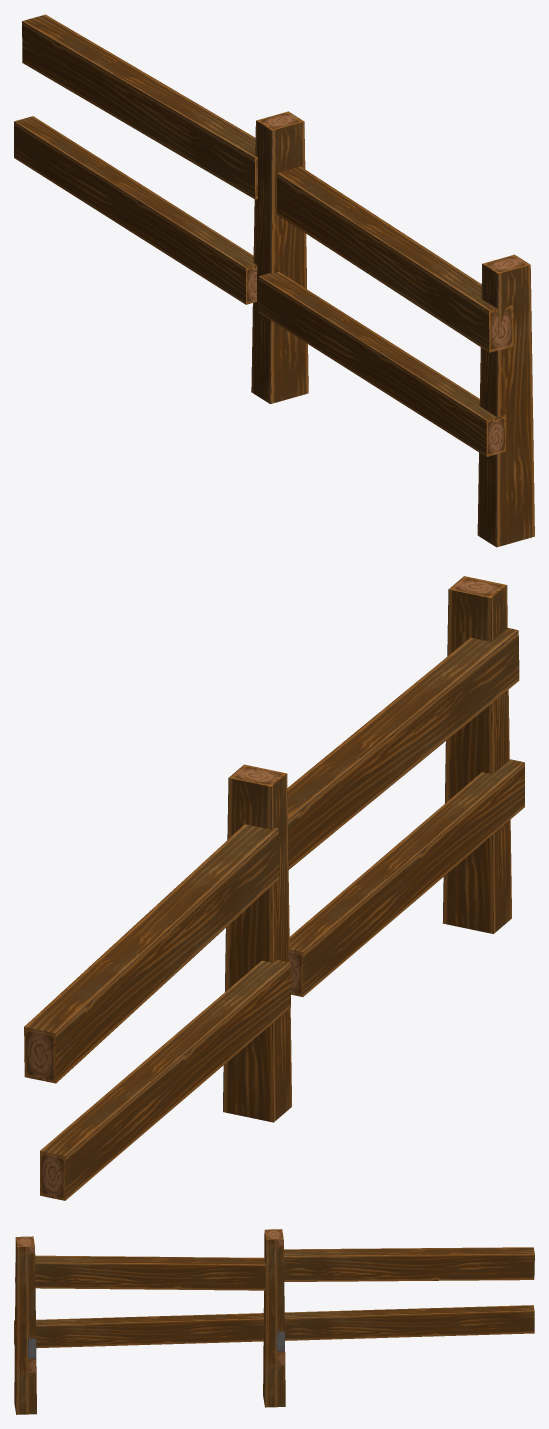
3 views of the same model, one above another, from view 1: azimuth 30°, elevation 25°; view 2: azimuth 150°, elevation 25°; view 3: azimuth 270°, elevation 25° (orthographic). The views are drawn at different scales.
Parts seen in each view (by area): view 1: Cube.002; view 2: Cube.002; view 3: Cube.002.
Part boxes in pixels (bbox=[...]): Cube.002: bbox=[14, 14, 534, 547]; Cube.002: bbox=[24, 576, 524, 1200]; Cube.002: bbox=[14, 1229, 534, 1414].
Bounding box in the file's own units: 50.24 × 132 × 373.
Materials: 1 (1 with a texture image).
